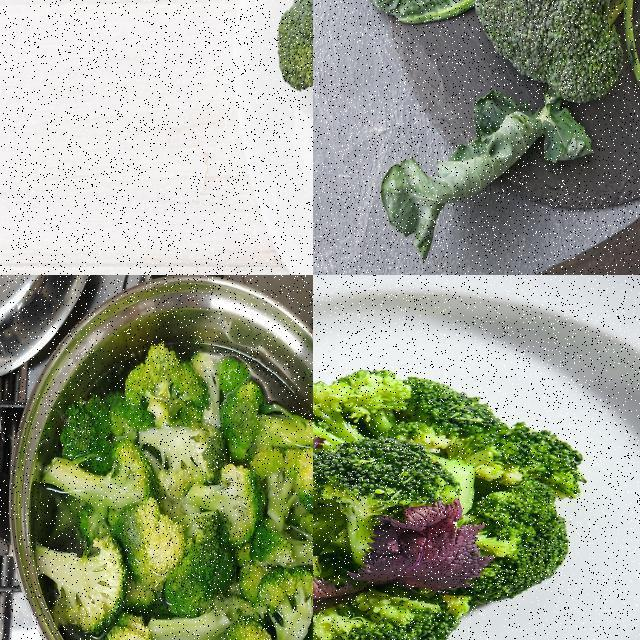broccoli: (313, 436, 466, 582), (467, 0, 639, 99), (45, 447, 164, 548), (34, 534, 131, 632), (313, 581, 475, 639), (214, 385, 312, 462), (186, 465, 258, 545), (258, 571, 312, 639), (93, 612, 190, 639), (202, 614, 292, 639)
